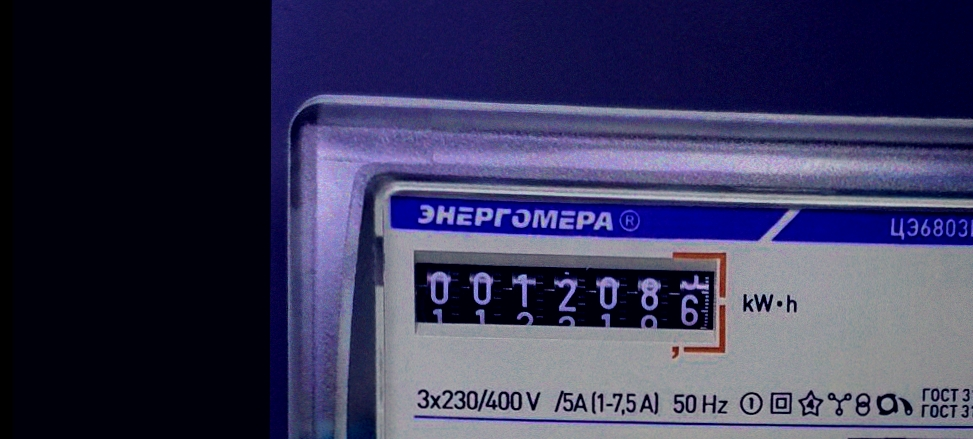0: (427, 266, 454, 305), (471, 268, 496, 305), (596, 273, 621, 309)
1: (513, 270, 535, 309)
2: (555, 275, 582, 313)
6: (678, 290, 701, 326)
8: (637, 274, 663, 311)
screen: (407, 242, 737, 358)
